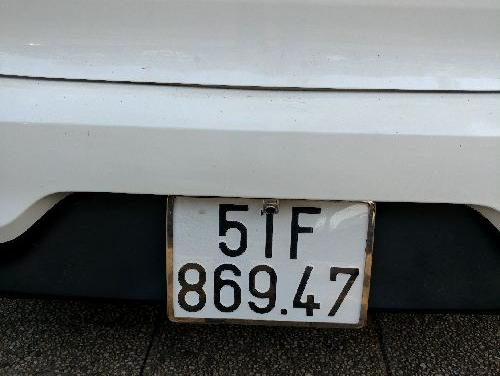lisence: (162, 191, 379, 331)
